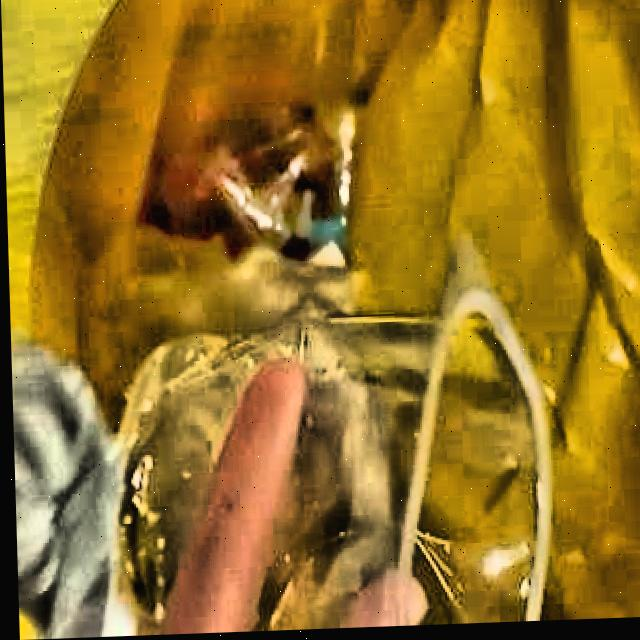plastic: (115, 245, 545, 633)
